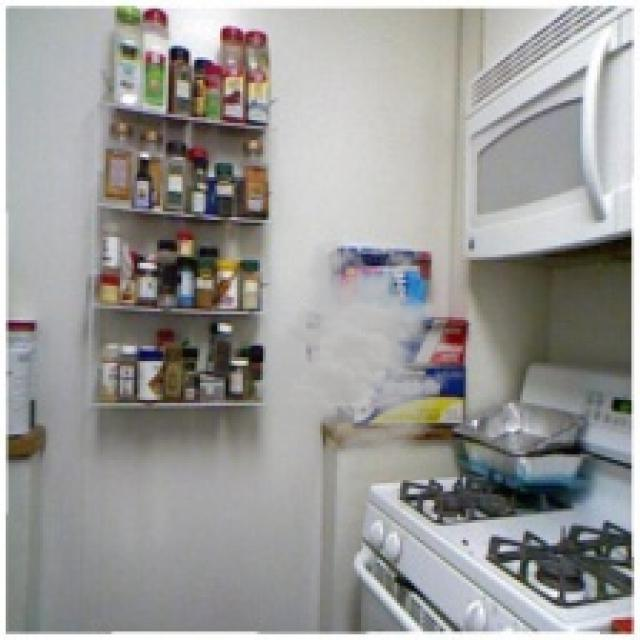smoke: (257, 237, 474, 460)
